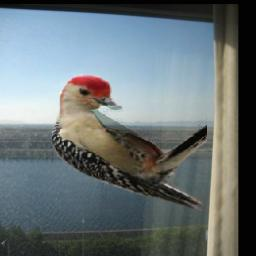Woodpecker: (52, 75, 207, 215)
